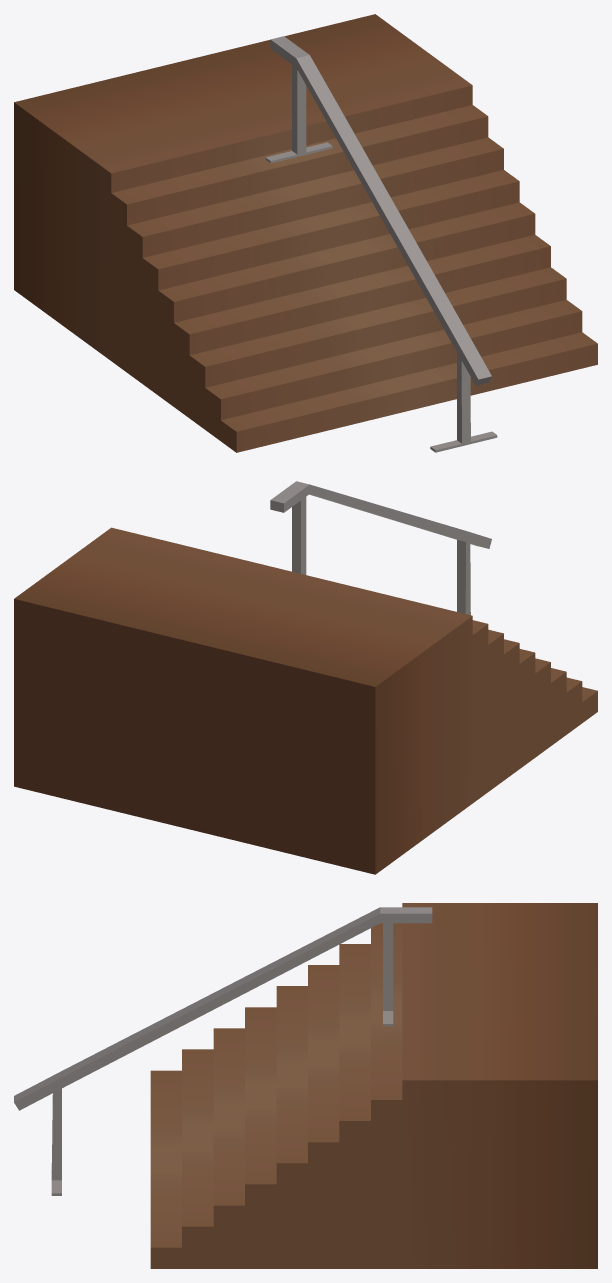
File: SkateboardStairsetHandrail.glb
The picture shows the model from 3 angles, top to bottom: view 1: azimuth 30°, elevation 25°; view 2: azimuth 150°, elevation 25°; view 3: azimuth 270°, elevation 25°; orthographic projection.
Parts seen in each view (by area): view 1: SkateboardStairsetHandrail; view 2: SkateboardStairsetHandrail; view 3: SkateboardStairsetHandrail.
Boxes of the visible parts, x1,y1,x2,y2 form: SkateboardStairsetHandrail: (14, 14, 597, 452); SkateboardStairsetHandrail: (14, 481, 597, 874); SkateboardStairsetHandrail: (14, 903, 597, 1268).
Size of the model in its own units: 4 by 2.84 by 5.57.
1 material, 1 textured.
